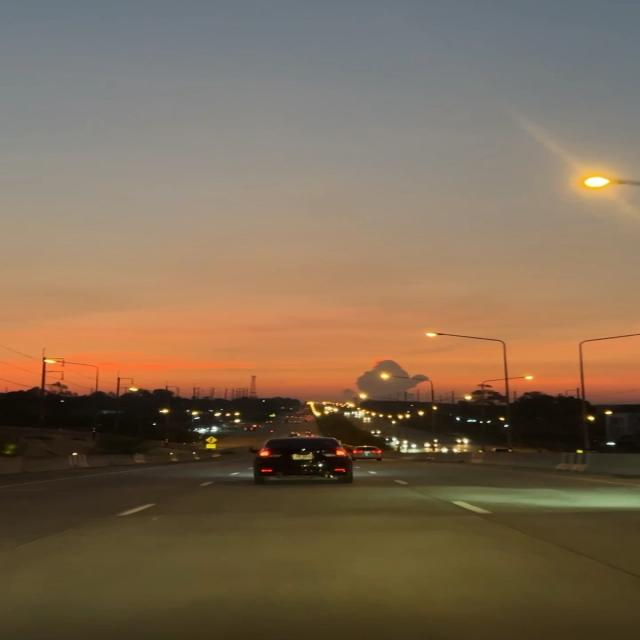Poth-hole: (39, 462, 640, 616)
